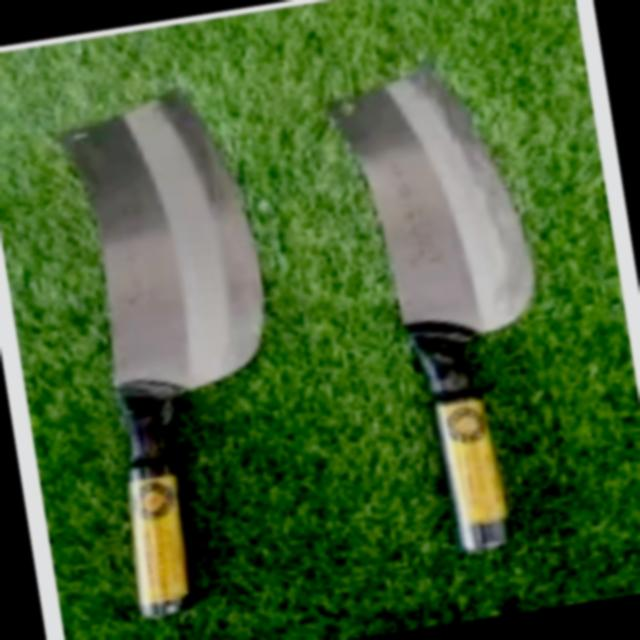knife: (18, 26, 592, 640)
